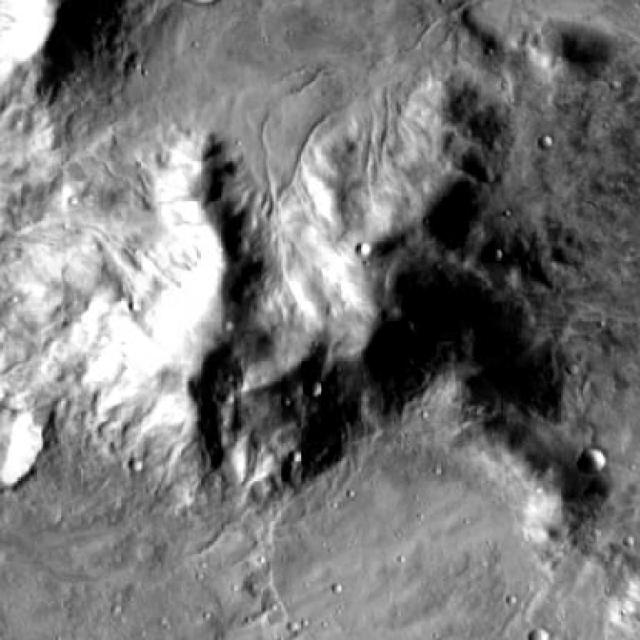crater: (257, 386, 565, 640), (0, 405, 51, 486), (578, 452, 604, 476), (526, 624, 550, 640), (308, 382, 326, 400)
